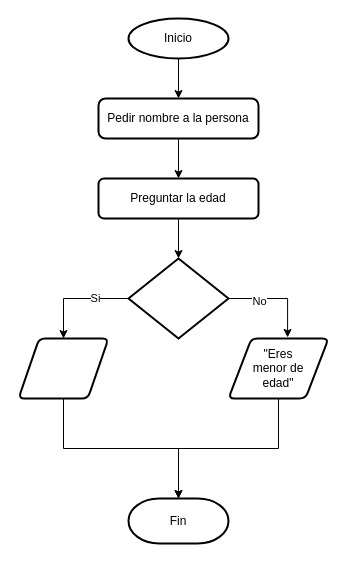
Image size: 346x561. Some labels were removed from this diagram. Here are the shapes that lost their labels. From the top down, the box of each, then its label:
(127, 257, 229, 339): ¿edad >= 18?
(17, 337, 109, 399): "Eres mayor de edad"
